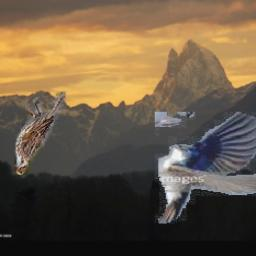Sparrow: (13, 91, 66, 175)
Swallow: (154, 112, 256, 223)
